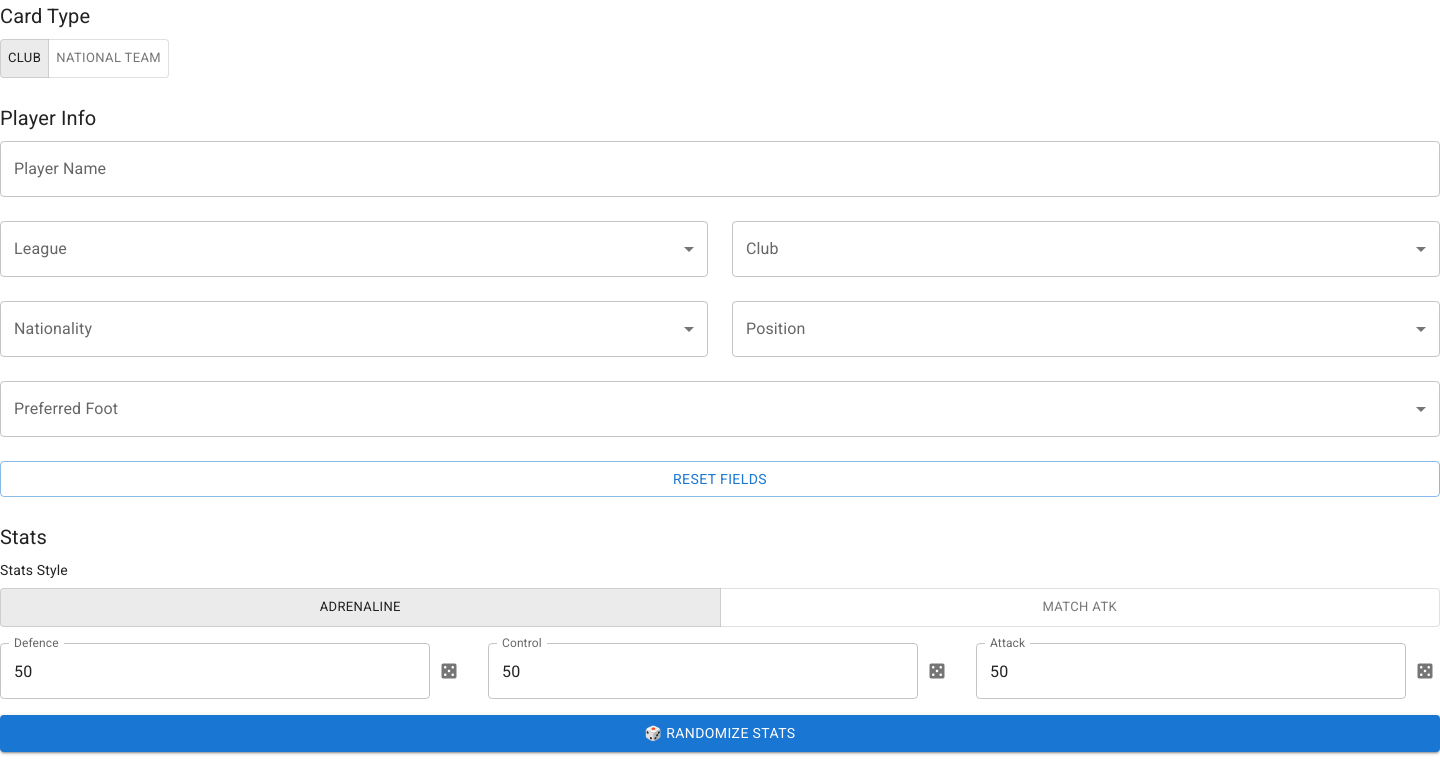
Scenario: Nationality flag display mode › Flag and Both buttons are disabled for nationality with no flag
Press the mouse on the dropdown named "Nationality" at (354, 329), box [0,301,708,357]
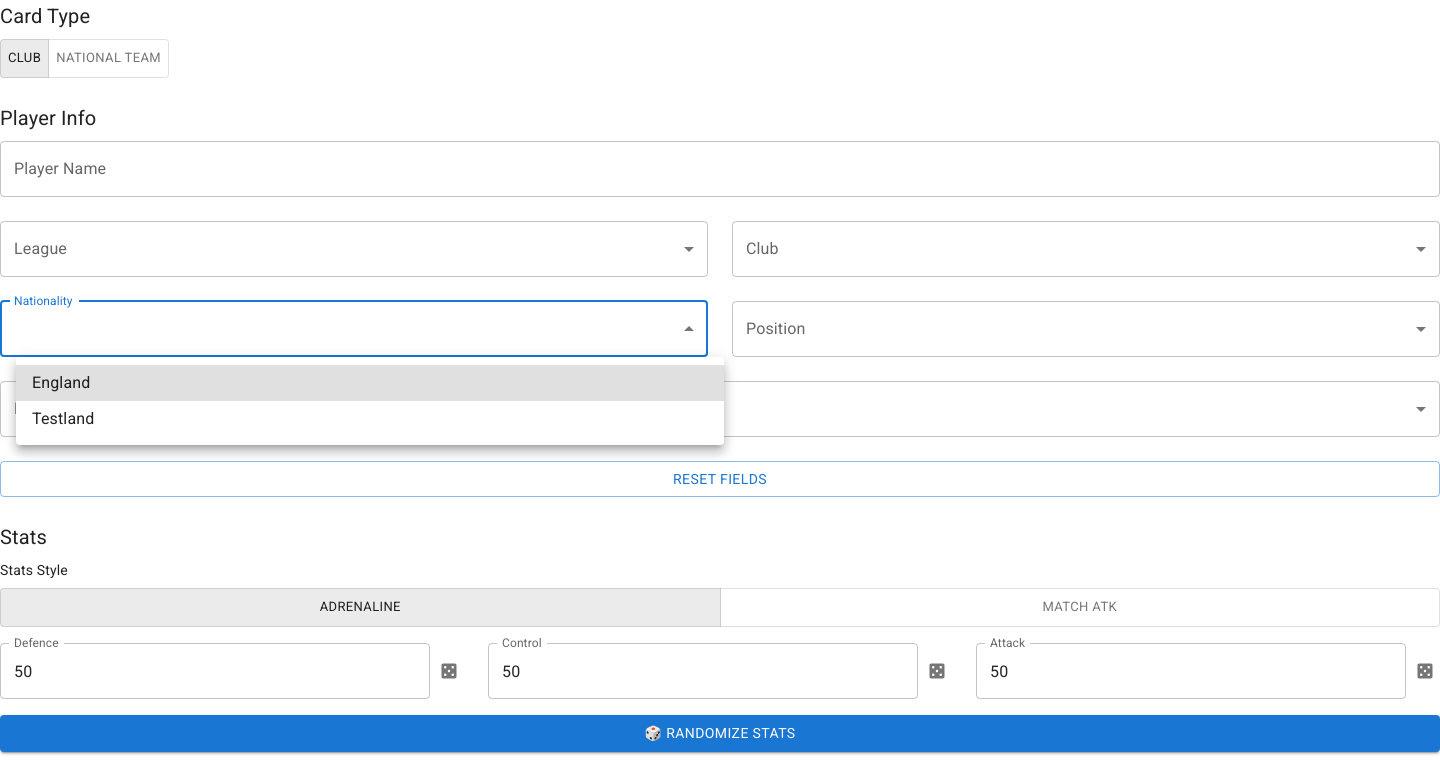
Click the option "Testland" at (63, 418), box [32,409,94,428]
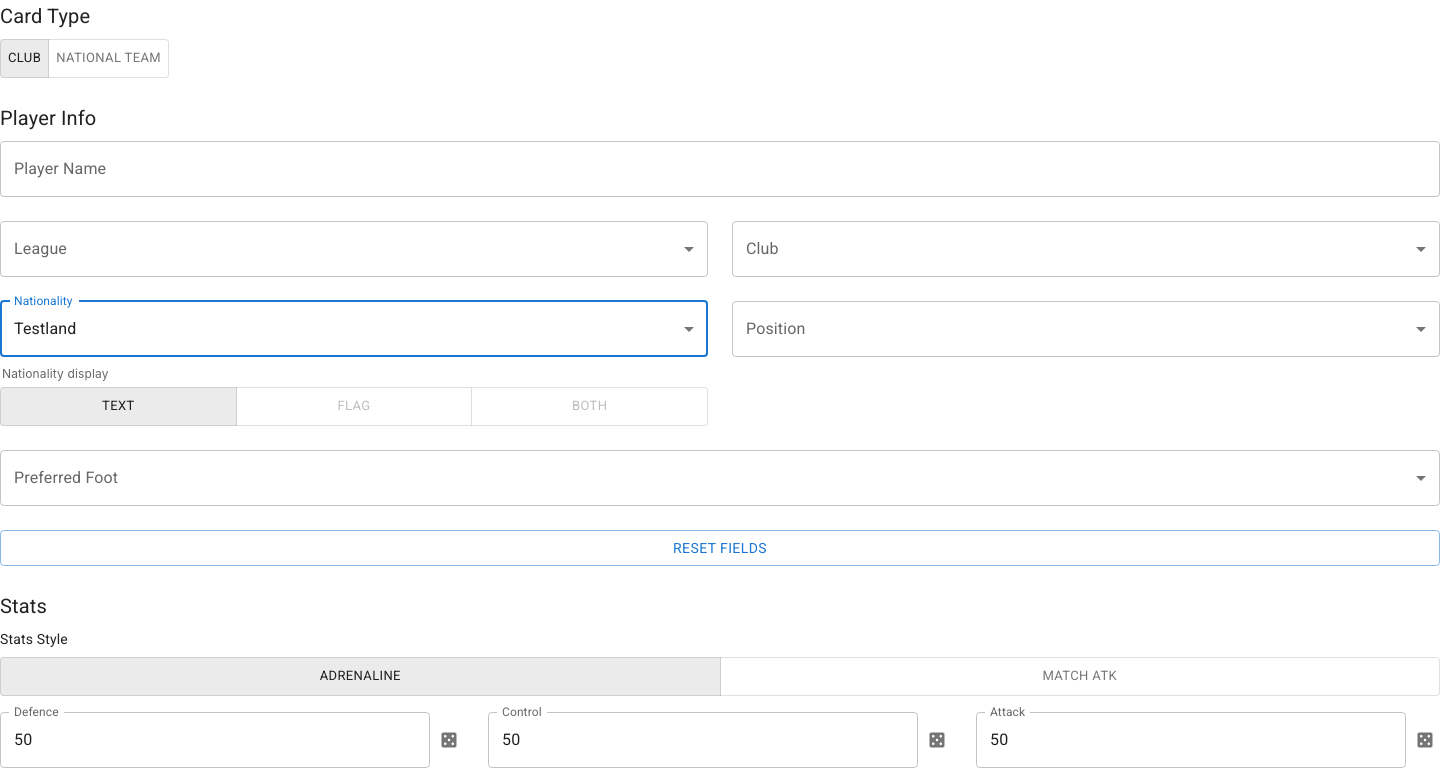
Now the element with test id "nationality-display-selector" is shown, box [0,387,708,426]
Now the button with aria-label "Show flag only" is disabled, box [236,387,472,426]
Now the button with aria-label "Show flag and text" is disabled, box [471,387,708,426]
